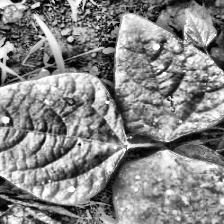Bean Rust: (0, 72, 127, 204), (114, 14, 224, 141), (115, 147, 224, 224)
